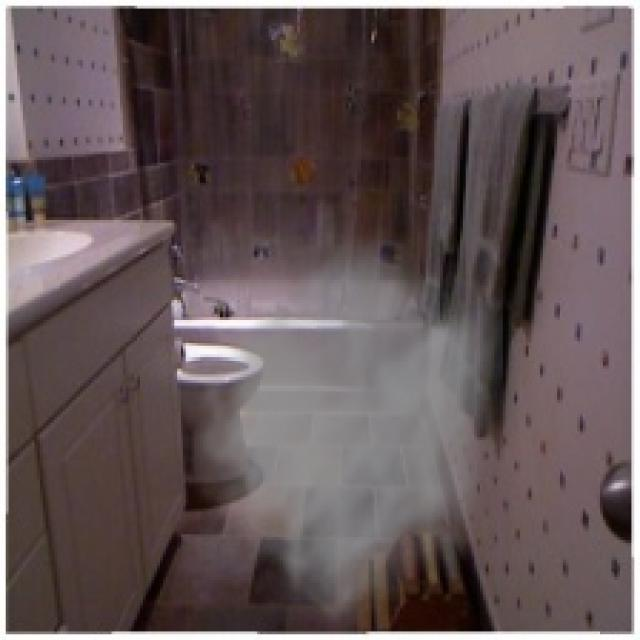smoke: (160, 217, 506, 637)
